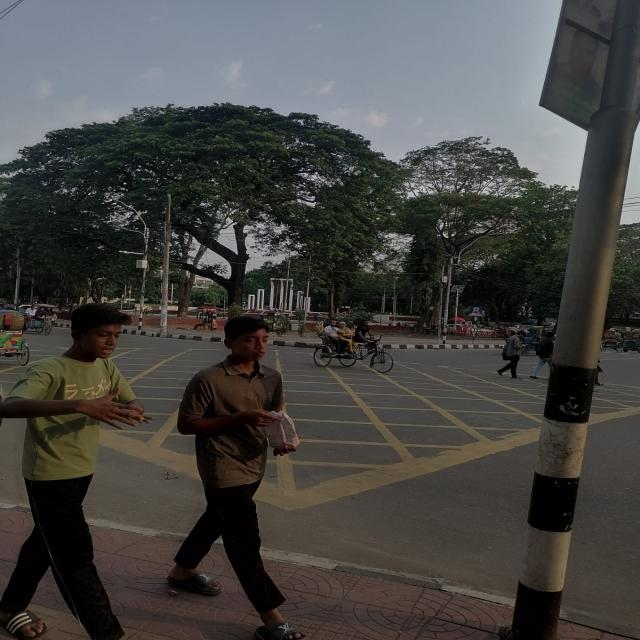person: (497, 331, 524, 379), (530, 332, 554, 379)
